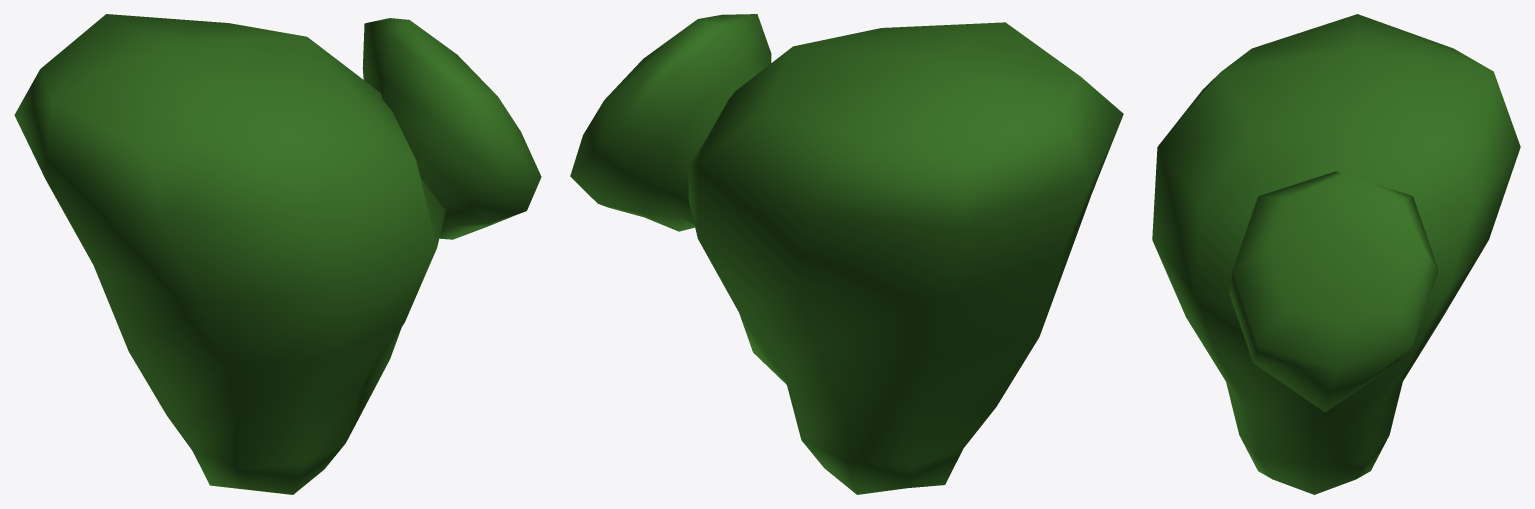
The model's file is Bush_5.fbx.
3 views of the same model, side by side, from view 1: azimuth 30°, elevation 25°; view 2: azimuth 150°, elevation 25°; view 3: azimuth 270°, elevation 25° (orthographic). The views are drawn at different scales.
Visible parts, largest first — view 1: pCube21; view 2: pCube21; view 3: pCube21.
Part boxes in pixels (<box>): pCube21: <box>14,14,541,494</box>; pCube21: <box>570,14,1123,494</box>; pCube21: <box>1152,14,1520,494</box>.
Bounding box in the file's own units: 666 × 596 × 490.
